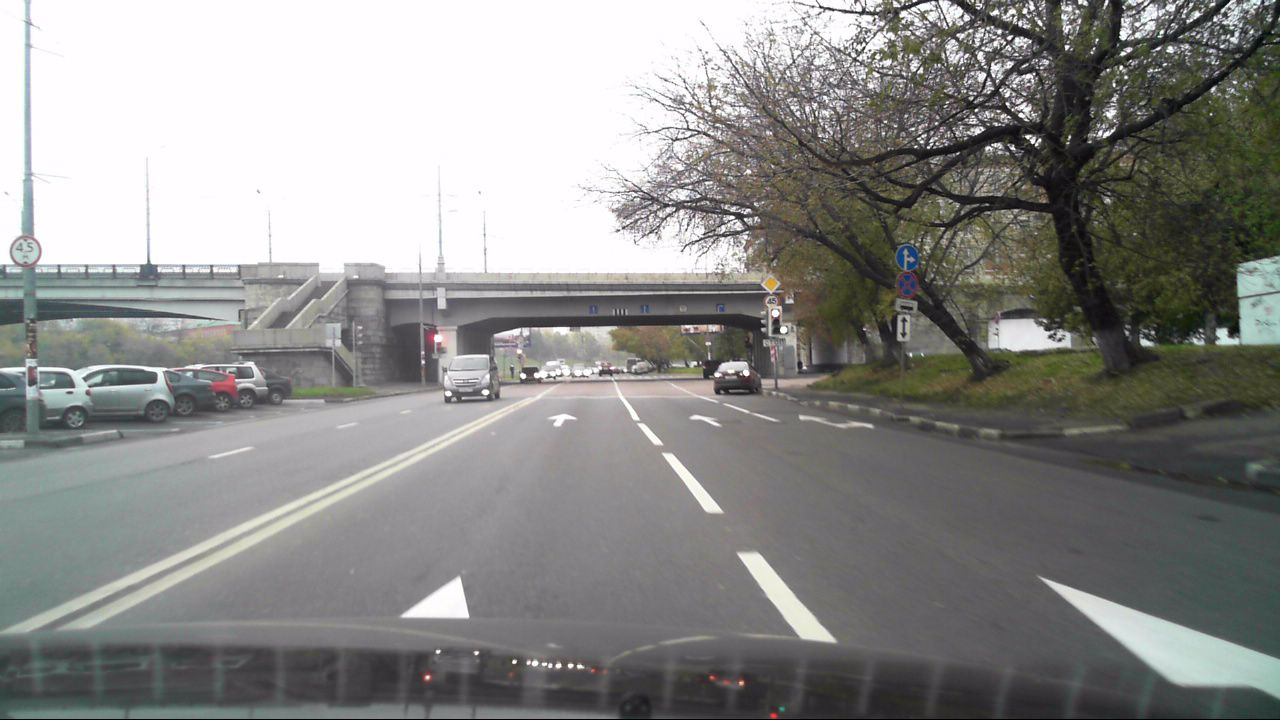No Parking: (894, 271, 920, 297)
